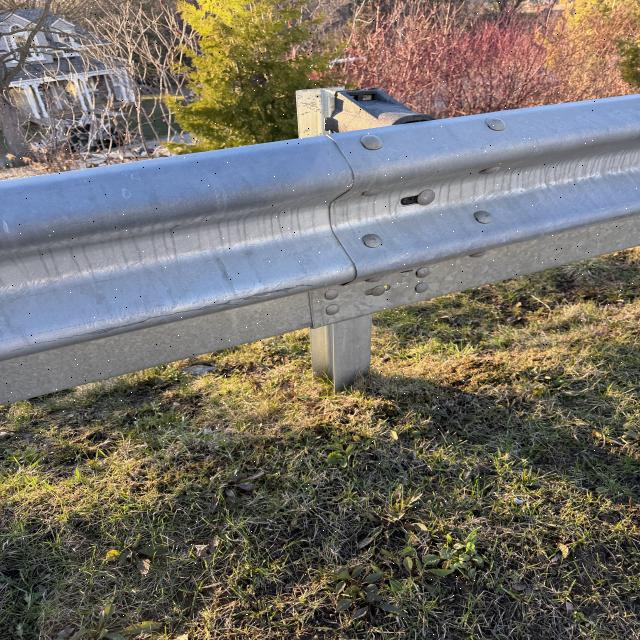Guard rail: (4, 152, 373, 385)
